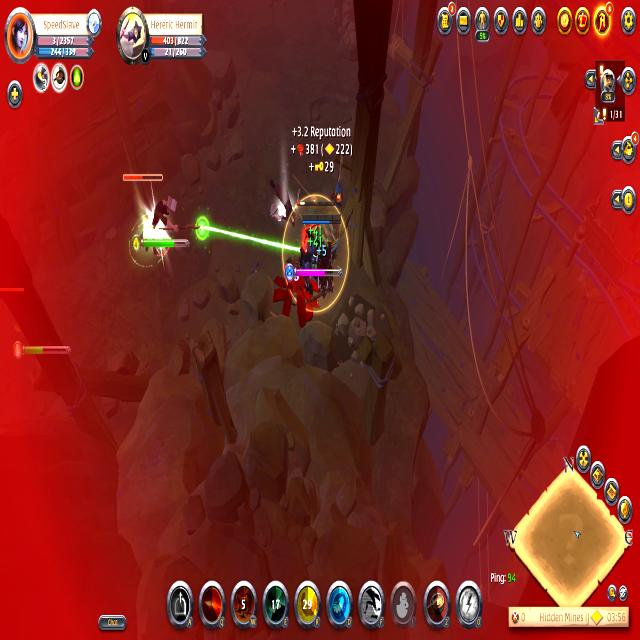ore: (121, 168, 172, 263), (293, 197, 340, 297), (0, 280, 28, 298)
red: (295, 213, 339, 310)
stone: (277, 201, 289, 222)
